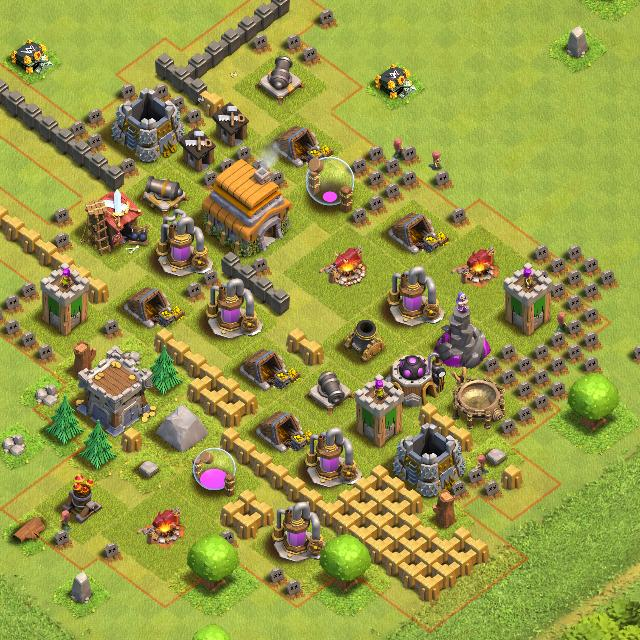Arqueira: (503, 262, 553, 336), (354, 373, 404, 446), (40, 262, 89, 334)
Canhao: (253, 54, 306, 111), (138, 172, 194, 214), (308, 367, 353, 415)
